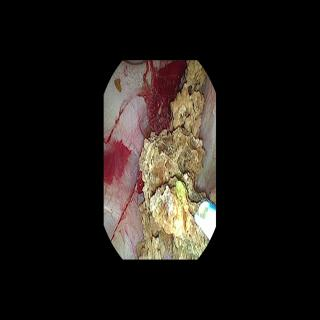stone: (137, 62, 206, 258), (115, 80, 121, 91)
tissue: (105, 64, 183, 256)
